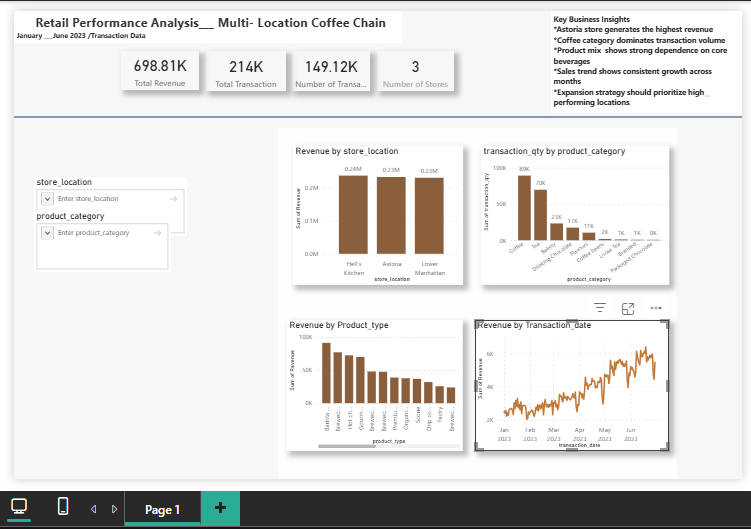

What the dashboard file says about the page in this screenshot:
{"tool":"powerbi","page":{"name":"Page 1","canvas":[1400,900],"ordinal":0},"visuals":[{"type":"shape","box":[507.7,225,767.3,675],"z":0},{"type":"clusteredColumnChart","title":" Revenue by store_location","fields":{"Category":["public coffee_sales.store_location"],"Y":["Sum(public coffee_sales.Revenue)"]},"box":[536.5,259.6,326.9,267.3],"z":1000},{"type":"clusteredColumnChart","title":" transaction_qty by product_category","fields":{"Category":["public coffee_sales.product_category"],"Y":["Sum(public coffee_sales.transaction_qty)"]},"box":[898.1,259.6,361.5,267.3],"z":2000},{"type":"card","fields":{"Values":["Sum(public coffee_sales.Revenue)"]},"box":[205.8,76.9,150,75],"z":3000},{"type":"card","fields":{"Values":["CountNonNull(public coffee_sales.transaction_id)"]},"box":[535.3,76.9,150,76.9],"z":4000},{"type":"card","fields":{"Values":["Sum(public coffee_sales.transaction_qty)"]},"box":[368.6,76.9,153.8,76.9],"z":5000},{"type":"card","fields":{"Values":["Count(public coffee_sales.store_location)"]},"box":[698.1,76.9,148.1,76.9],"z":6000},{"type":"clusteredColumnChart","title":" Revenue by Product_type","fields":{"Category":["public coffee_sales.product_type"],"Y":["Sum(public coffee_sales.Revenue)"]},"box":[525,594.2,338.5,251.9],"z":7000},{"type":"lineChart","title":"Revenue by Transaction_date","fields":{"Category":["public coffee_sales.transaction_date"],"Y":["Sum(public coffee_sales.Revenue)"]},"box":[886.5,594.2,373.1,251.9],"z":8000},{"type":"textSlicer","fields":{"Values":["public coffee_sales.store_location"]},"box":[38.5,319.2,294.2,113.5],"z":9000},{"type":"textSlicer","fields":{"Values":["public coffee_sales.product_category"]},"box":[38.5,384.6,263.5,117.3],"z":10000},{"type":"textbox","box":[0,0,746.2,61.5],"z":11000},{"type":"textbox","box":[1032.7,0,367.3,196.2],"z":11002},{"type":"shape","box":[0,196.2,1400,15.4],"z":11003}]}

Visuals, with their boxes on the page's 1400x900 design canvas (x1, y1, x2, y2). These are canvas units, not pixel positions in the 751x529 screenshot, which may show the page scaled, cropped or inside an application window:
shape: <region>508, 225, 1275, 900</region>
" Revenue by store_location" clusteredColumnChart: <region>536, 260, 863, 527</region>
" transaction_qty by product_category" clusteredColumnChart: <region>898, 260, 1260, 527</region>
card - Sum(public coffee_sales.Revenue): <region>206, 77, 356, 152</region>
card - CountNonNull(public coffee_sales.transaction_id): <region>535, 77, 685, 154</region>
card - Sum(public coffee_sales.transaction_qty): <region>369, 77, 522, 154</region>
card - Count(public coffee_sales.store_location): <region>698, 77, 846, 154</region>
" Revenue by Product_type" clusteredColumnChart: <region>525, 594, 864, 846</region>
"Revenue by Transaction_date" lineChart: <region>886, 594, 1260, 846</region>
textSlicer - public coffee_sales.store_location: <region>38, 319, 333, 433</region>
textSlicer - public coffee_sales.product_category: <region>38, 385, 302, 502</region>
textbox: <region>0, 0, 746, 62</region>
textbox: <region>1033, 0, 1400, 196</region>
shape: <region>0, 196, 1400, 212</region>
